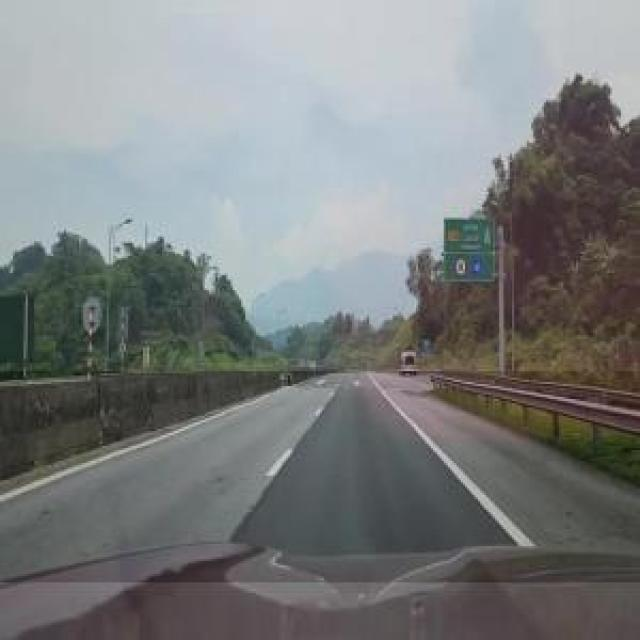clear-road: (0, 374, 640, 582)
